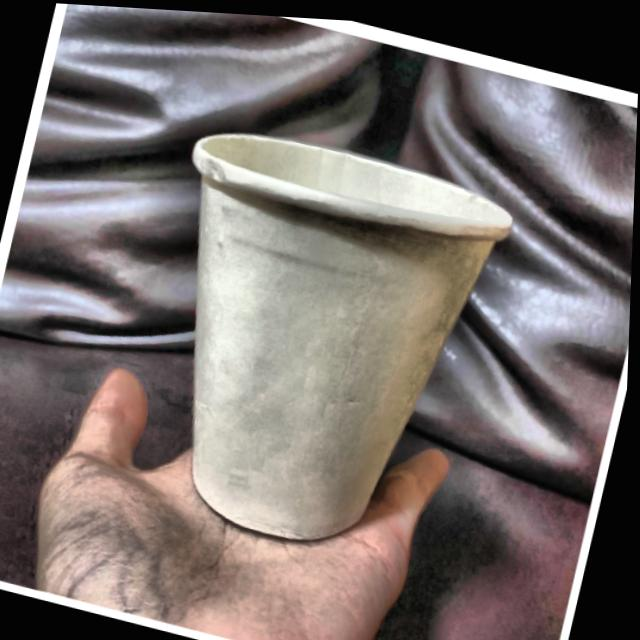Cup: (110, 94, 536, 588)
